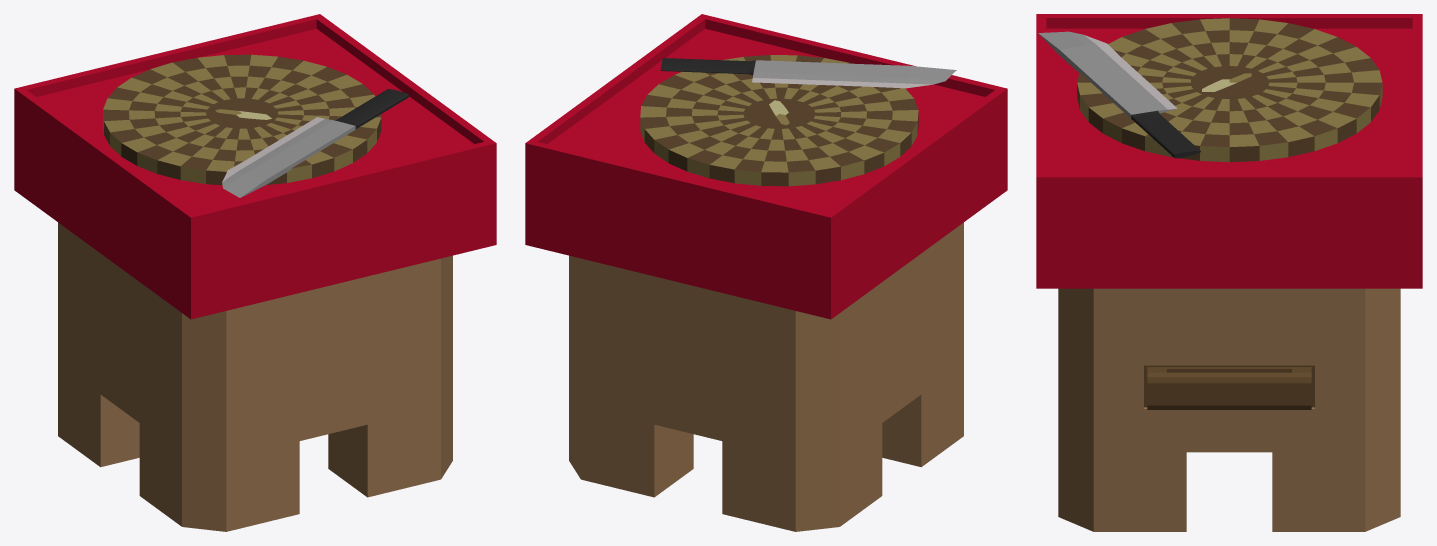
The model's file is Chopping_Station.fbx.
3 renders of one model, left to right at view 1: azimuth 30°, elevation 25°; view 2: azimuth 150°, elevation 25°; view 3: azimuth 270°, elevation 25°, orthographic. The views are drawn at different scales.
Parts seen in each view (by area): view 1: Table, Cutting Board, Knife; view 2: Table, Cutting Board, Knife; view 3: Table, Cutting Board, Knife.
Part boxes in pixels (x1,y1,x2,y2): Table: (14, 14, 496, 531); Cutting Board: (103, 54, 381, 185); Knife: (222, 89, 408, 197); Table: (525, 14, 1007, 531); Cutting Board: (640, 55, 918, 186); Knife: (660, 58, 956, 88); Table: (1036, 14, 1422, 531); Cutting Board: (1077, 18, 1382, 162); Knife: (1038, 31, 1200, 158).
Size of the model in its own units: 199 by 212 by 199.
